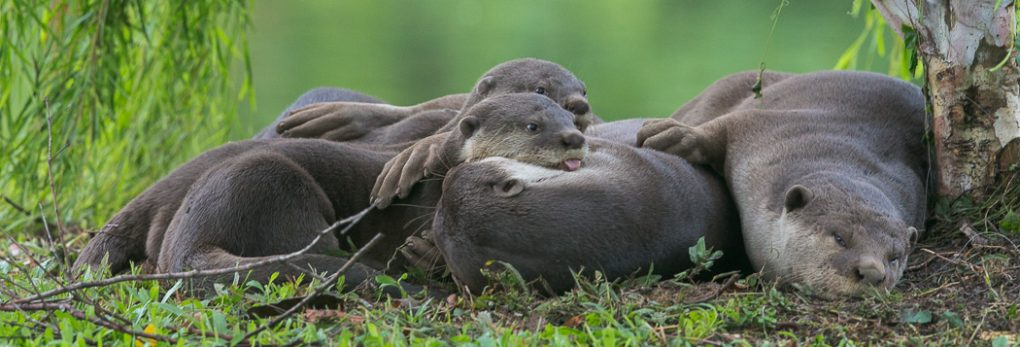otter: (632, 45, 939, 309), (292, 85, 597, 226)
